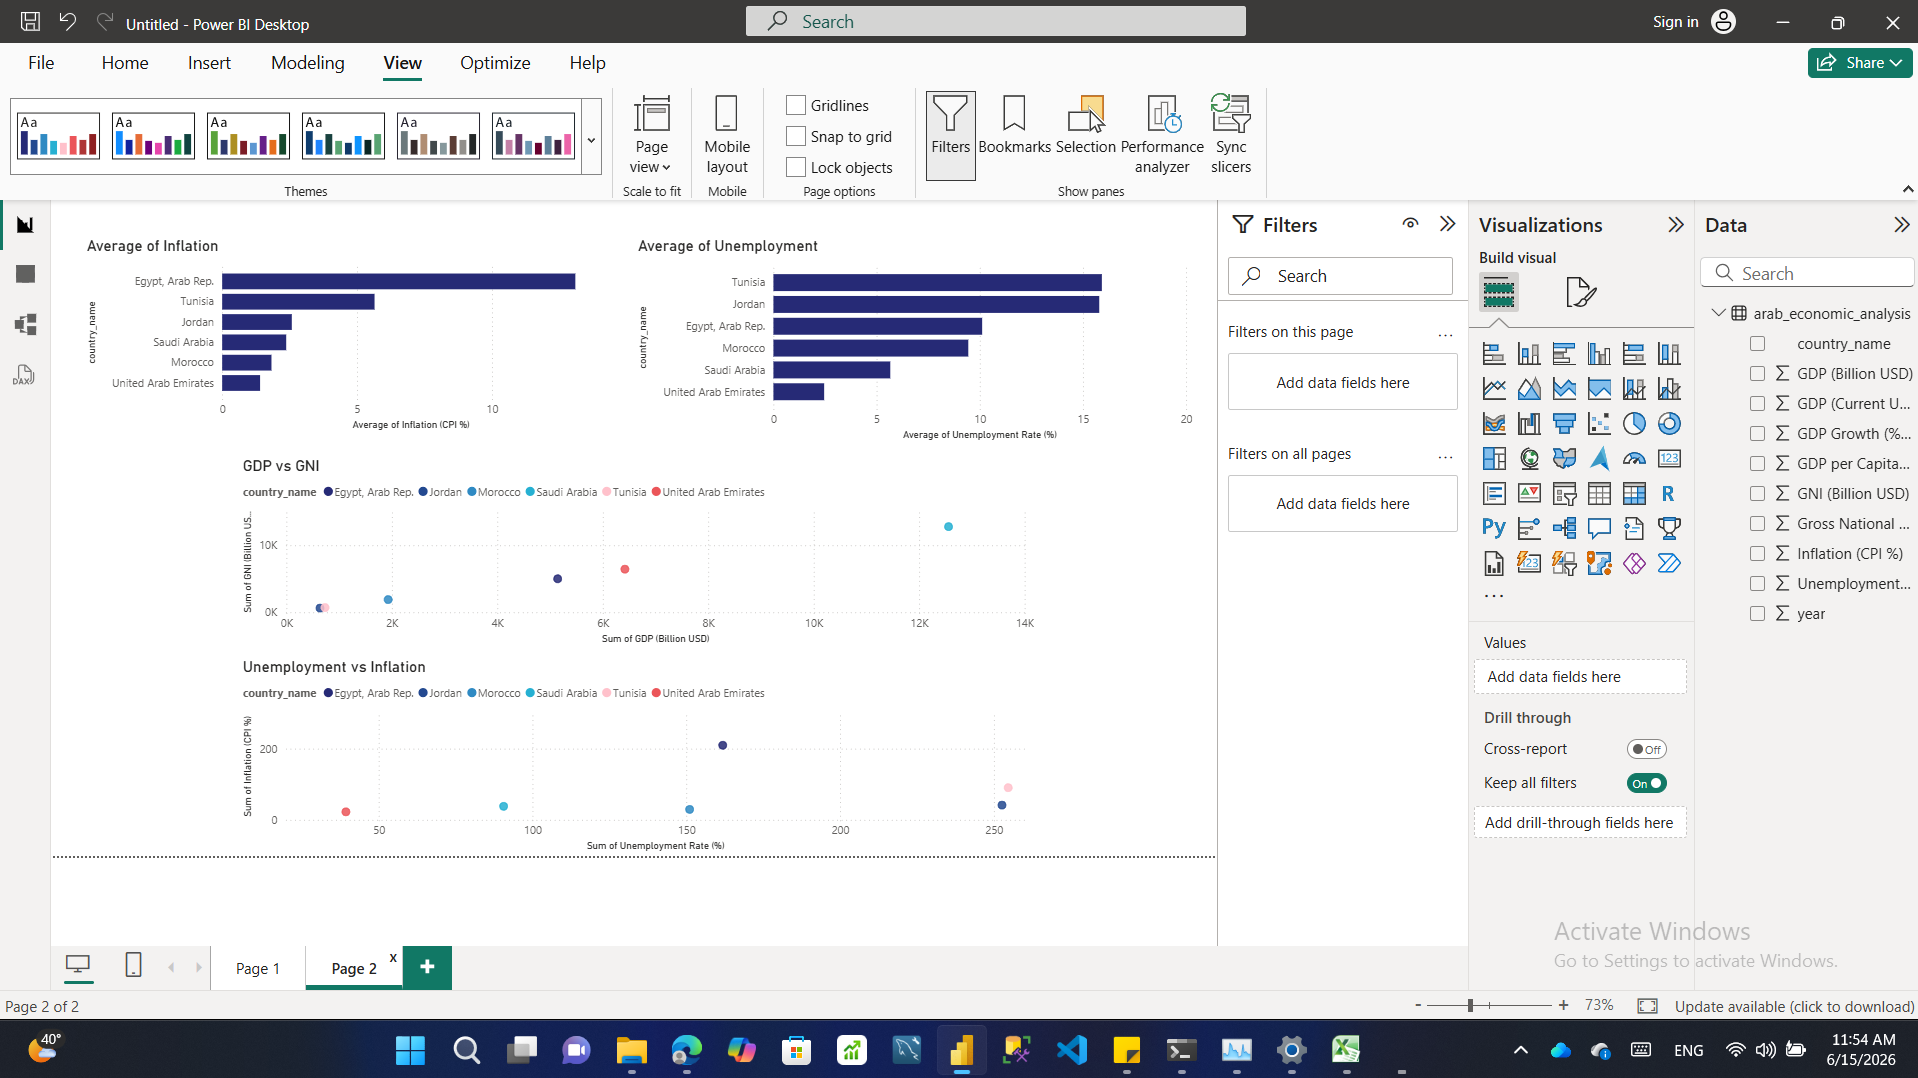

This screenshot's page, from the dashboard's own definition file:
{"tool":"powerbi","page":{"name":"Page 2","canvas":[1280,720],"ordinal":1},"visuals":[{"type":"clusteredBarChart","title":"Average of Inflation ","fields":{"Category":["arab_economic_analysis.country_name"],"Y":["Avg(arab_economic_analysis.Inflation (CPI %))"]},"box":[34.3,39.8,580.4,218.2],"z":0},{"type":"clusteredBarChart","title":"Average of Unemployment ","fields":{"Category":["arab_economic_analysis.country_name"],"Y":["Avg(arab_economic_analysis.Unemployment Rate (%))"]},"box":[639.5,39.8,618.9,229.2],"z":1},{"type":"scatterChart","title":"GDP vs GNI ","fields":{"X":["Avg(arab_economic_analysis.GDP (Billion USD))"],"Y":["Avg(arab_economic_analysis.GNI (Billion USD))"],"Series":["arab_economic_analysis.country_name"]},"box":[205.8,269,878.2,223.7],"z":2},{"type":"scatterChart","title":" Unemployment vs Inflation ","fields":{"X":["Avg(arab_economic_analysis.Unemployment Rate (%))"],"Y":["Avg(arab_economic_analysis.Inflation (CPI %))"],"Series":["arab_economic_analysis.country_name"]},"box":[205.8,502.2,878.2,218.2],"z":3}]}

Visuals, with their boxes on the page's 1280x720 design canvas (x1, y1, x2, y2). These are canvas units, not pixel positions in the 1918x1078 screenshot, which may show the page scaled, cropped or inside an application window:
"Average of Inflation " clusteredBarChart: 34, 40, 615, 258
"Average of Unemployment " clusteredBarChart: 640, 40, 1258, 269
"GDP vs GNI " scatterChart: 206, 269, 1084, 493
" Unemployment vs Inflation " scatterChart: 206, 502, 1084, 720
